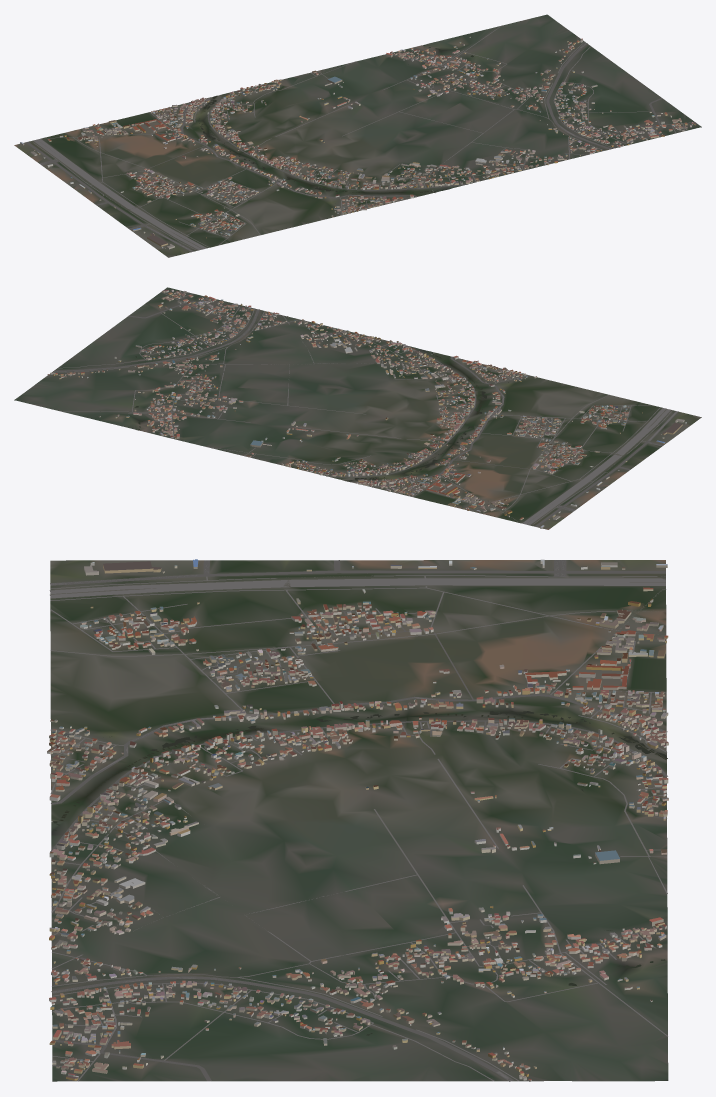
3 views of the same model, one above another, from view 1: azimuth 30°, elevation 25°; view 2: azimuth 150°, elevation 25°; view 3: azimuth 270°, elevation 25° (orthographic). The views are drawn at different scales.
Visible parts, largest first — view 1: ground, buildings, roads; view 2: ground, buildings, roads; view 3: ground, buildings, roads, water.
Part boxes in pixels (x1,y1,x2,y2): ground: (14,14,701,257); buildings: (20,36,695,249); roads: (26,25,691,251); ground: (14,287,701,529); buildings: (47,289,686,528); roads: (53,291,678,526); ground: (50,560,668,1081); buildings: (47,559,668,1081); roads: (49,560,667,1081); water: (53,711,667,1035).
Size of the model in its own units: 2812 by 23 by 1416.
